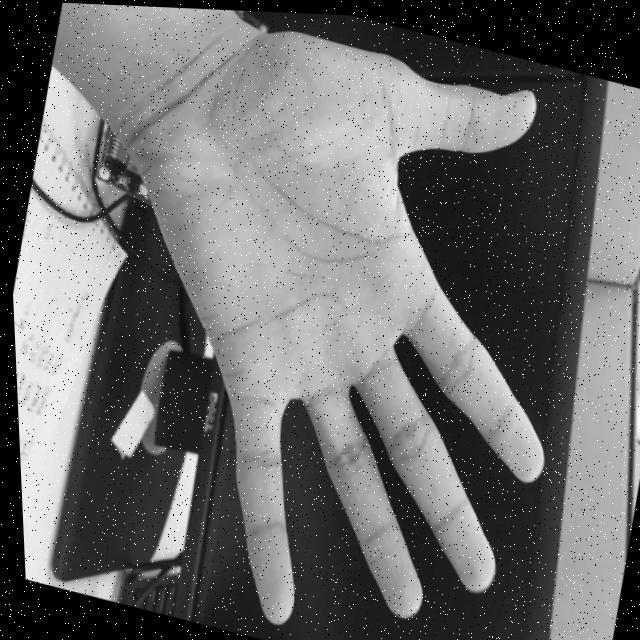no-gloves: (50, 2, 622, 640)
